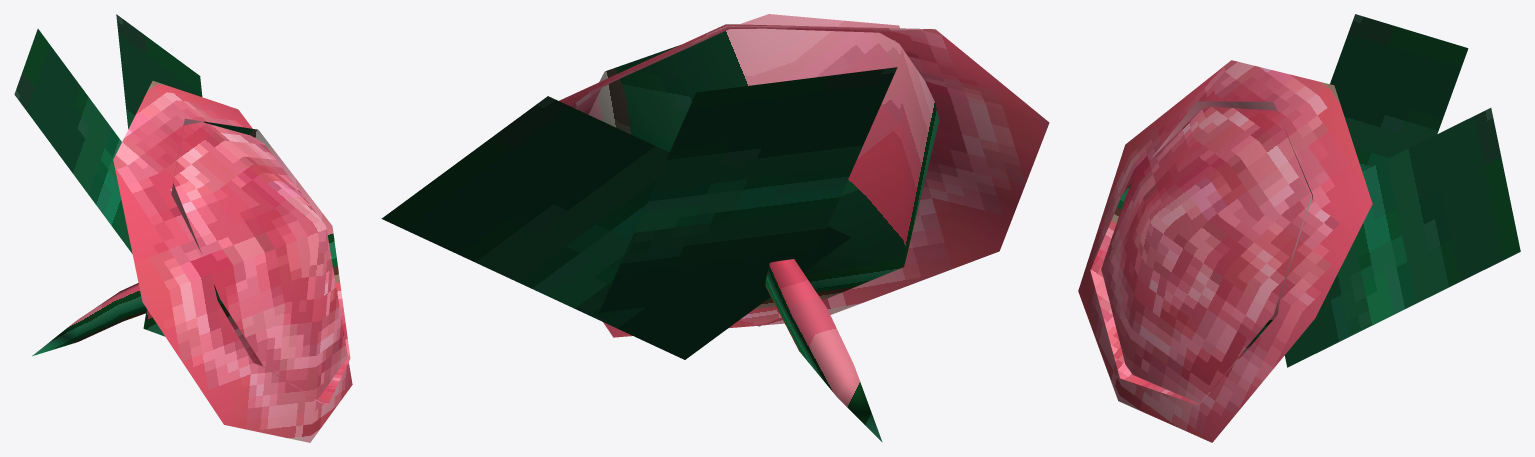
Rendered from flw_carna_pi_cap.dae.
The picture shows the model from 3 angles, left to right: view 1: azimuth 30°, elevation 25°; view 2: azimuth 150°, elevation 25°; view 3: azimuth 270°, elevation 25°; orthographic projection. The views are drawn at different scales.
Parts seen in each view (by area): view 1: flw_carna_pi_cap; view 2: flw_carna_pi_cap; view 3: flw_carna_pi_cap.
Part boxes in pixels (bbox=[...]): flw_carna_pi_cap: bbox=[14, 14, 352, 442]; flw_carna_pi_cap: bbox=[381, 14, 1049, 442]; flw_carna_pi_cap: bbox=[1078, 14, 1520, 442].
Size of the model in its own units: 8.97 by 9.46 by 12.38.
Materials: 1 (1 with a texture image).
